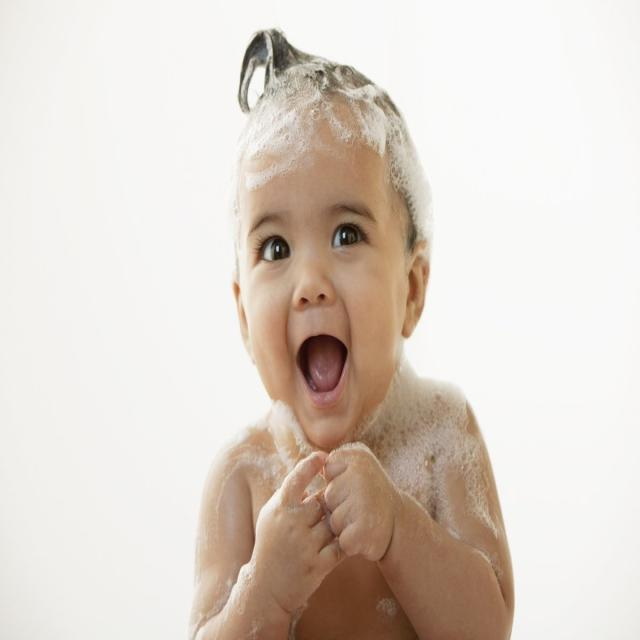non-dog: (188, 27, 517, 640)
